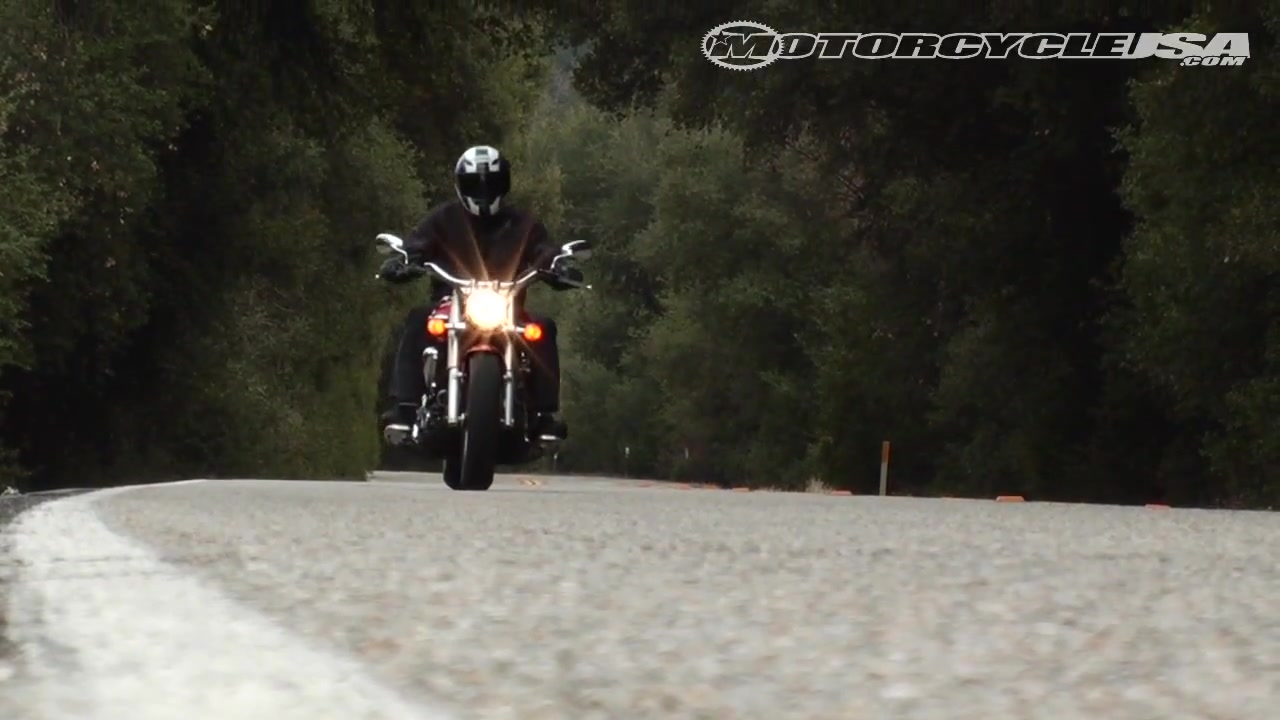motorbike: (375, 228, 601, 494)
